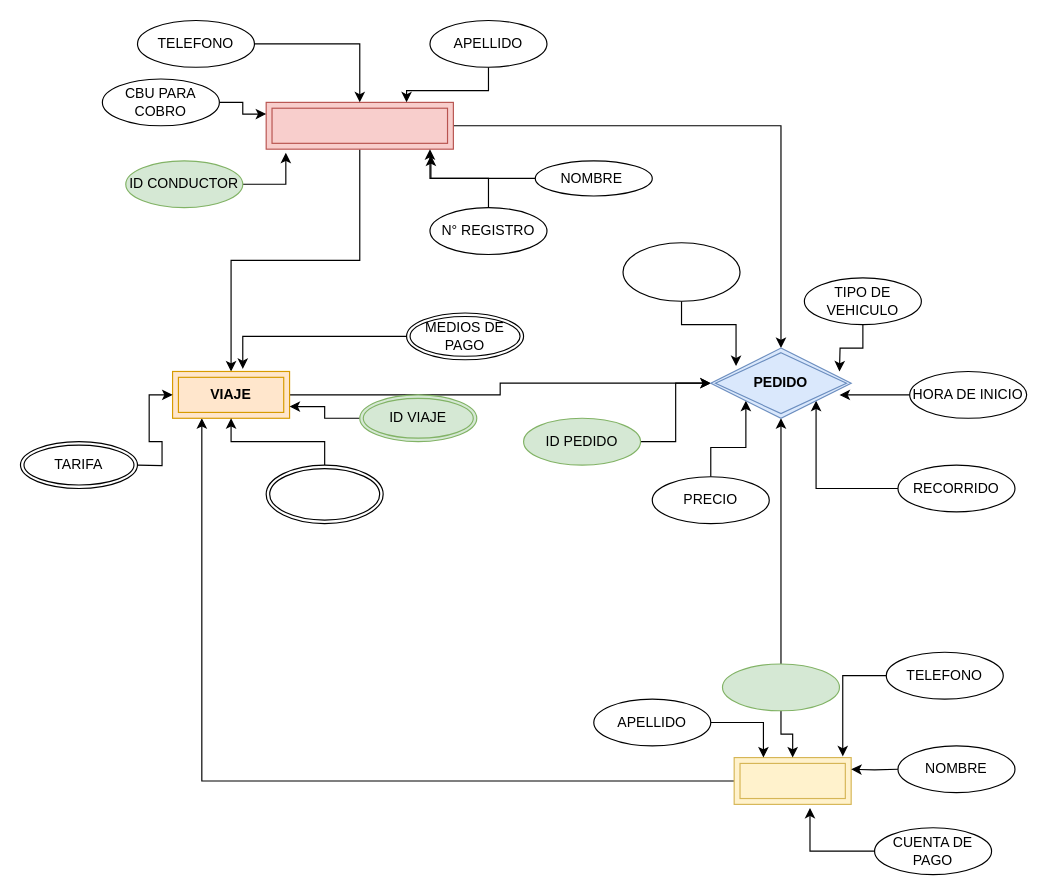
Some shapes in this 1047 by 895 pixel diagram are drawn without their labels. The shapes that lost their labels are listed below. From the top down, each one's centre as x and y in pixels, then its label:
[359,125]: CONDUCTORES
[681,271]: ELEGIR MEDIO DE PAGO
[324,494]: VEHICULOS
[780,687]: ID USUARIO
[792,780]: USUARIOS
